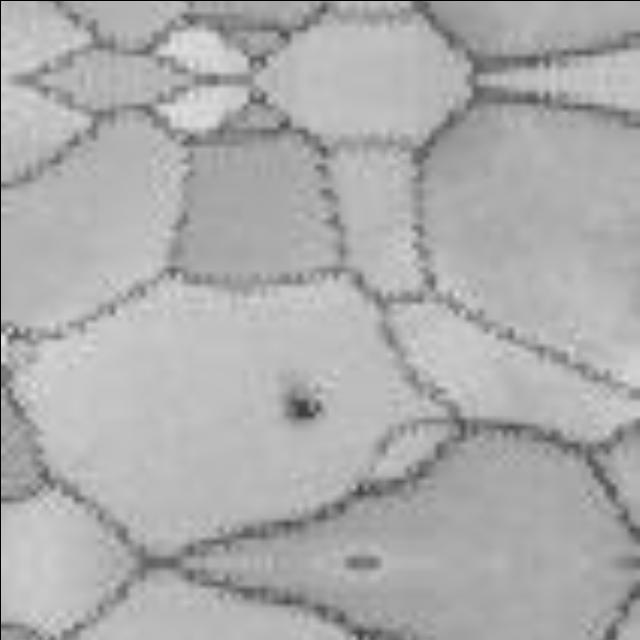good_void: (272, 363, 336, 428)
